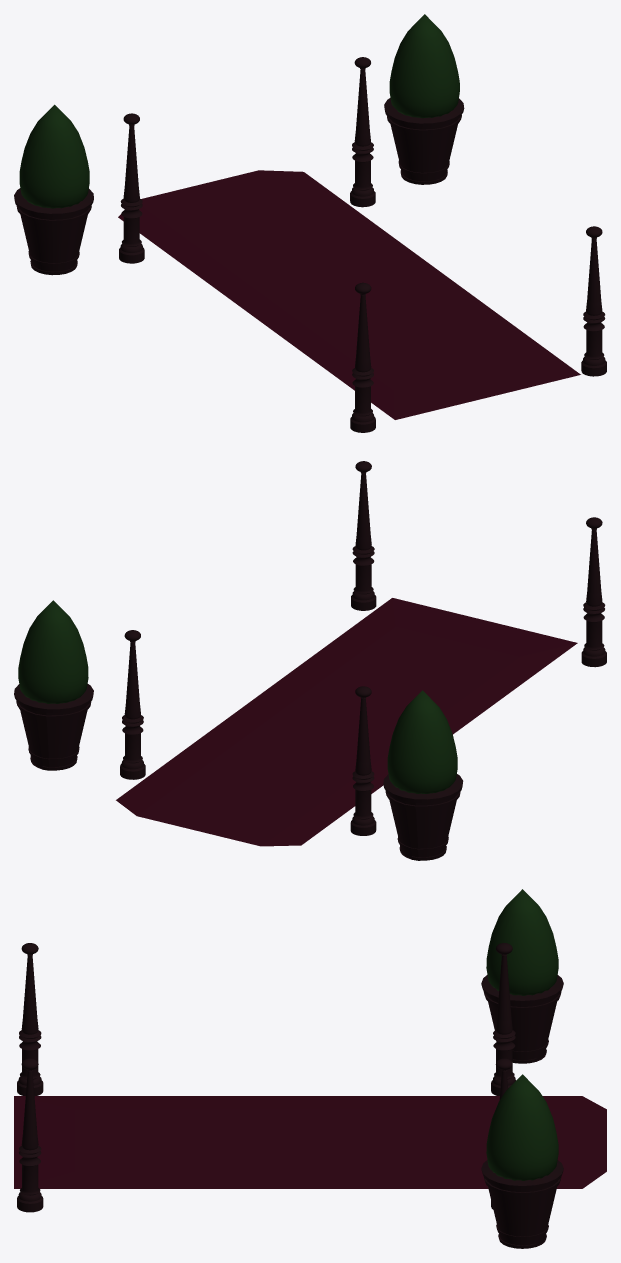
Rendered from Hotel-Teppich.fbx.
3 renders of one model, top to bottom at view 1: azimuth 30°, elevation 25°; view 2: azimuth 150°, elevation 25°; view 3: azimuth 270°, elevation 25°, orthographic. The views are drawn at different scales.
Visible parts, largest first — view 1: pCube36; view 2: pCube36; view 3: pCube36.
Part boxes in pixels (x1,y1,x2,y2): pCube36: (14,14,606,432); pCube36: (14,461,606,860); pCube36: (14,889,606,1248).
Size of the model in its own units: 376 by 134 by 428.
